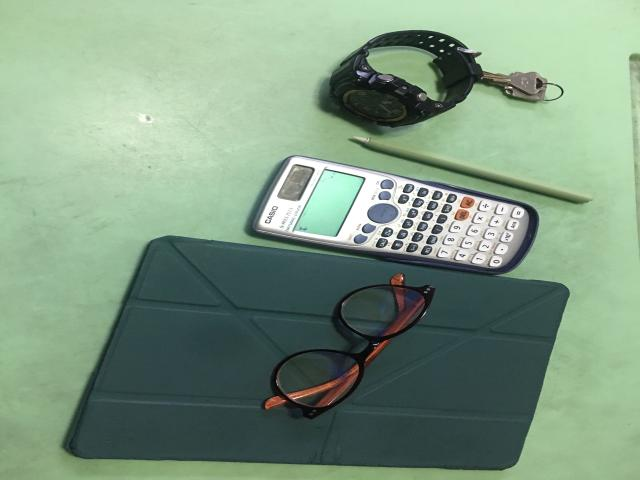Glasses: (265, 275, 435, 419)
Keys: (480, 71, 563, 101)
Watch: (330, 30, 483, 127)
